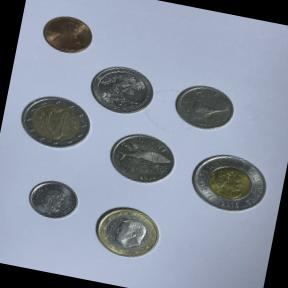coin: (177, 138, 279, 225), (80, 196, 172, 271), (96, 122, 186, 197), (12, 89, 97, 157), (30, 3, 105, 66), (84, 60, 160, 121), (19, 171, 87, 229)
